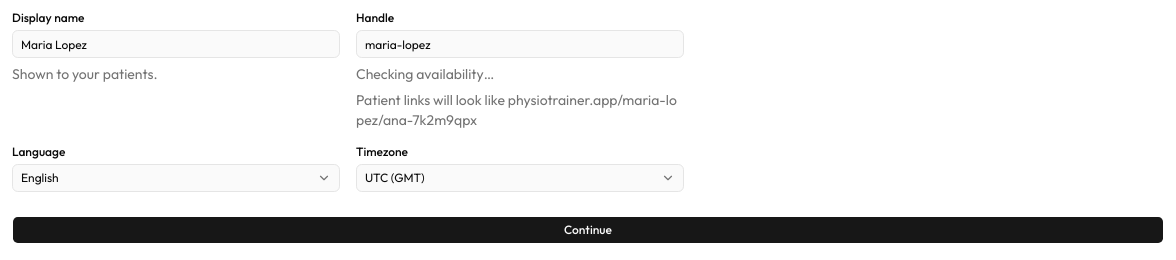
Test: ProfileForm › checks availability once typing stops
This screenshot has width=1176, height=260.
Replace the text in the field labelled "Handle" with "taken-one" at [520, 44], box [356,30,684,58]
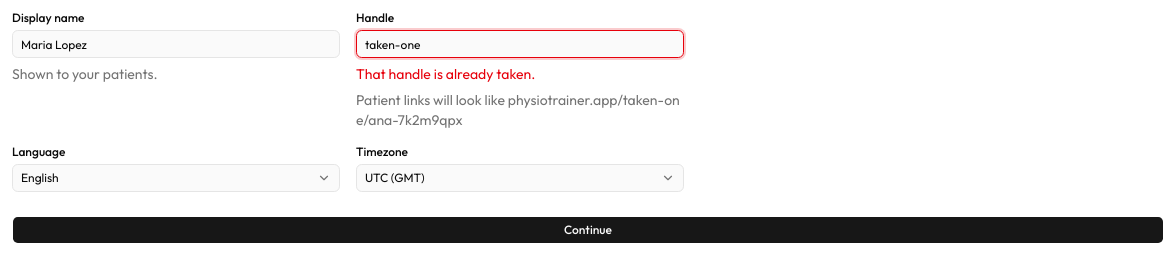
Expected: the text "That handle is already taken." is shown, [356,65,535,83]
Replace the text in the field labelled "Handle" with "free-one" at [520, 44], box [356,30,684,58]
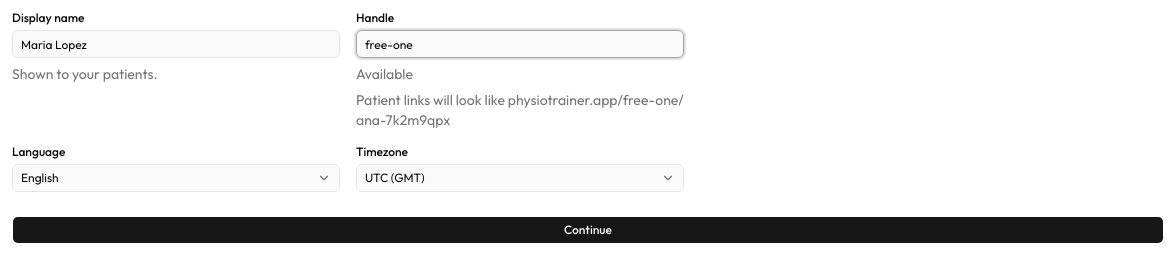
Expected: the text "Available" is shown, [356,65,413,83]
